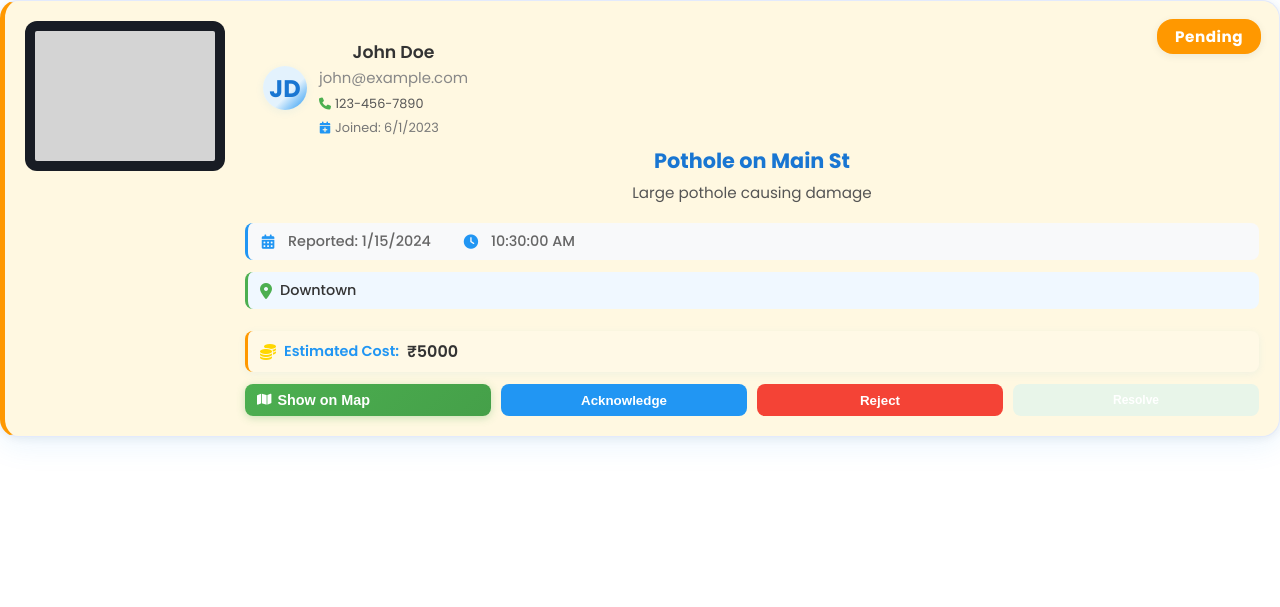
Test case: IssueCard › opens message box when action button clicked
Step 1. Click the button "Acknowledge" → point(624, 400), box left=501, top=384, right=747, bottom=416
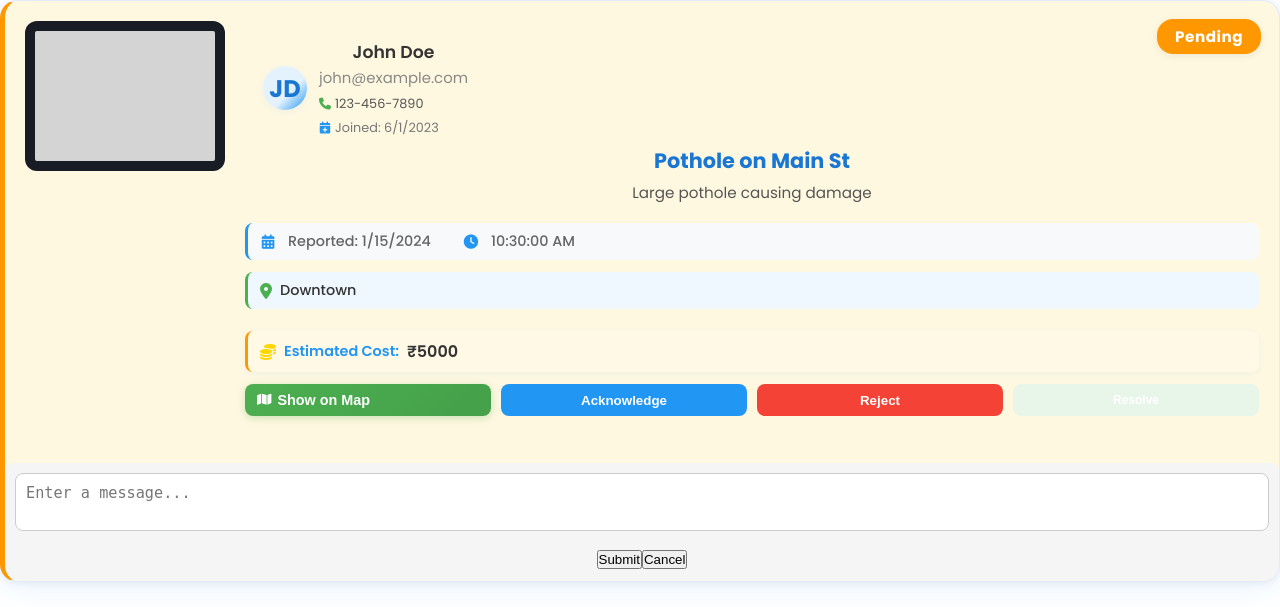
Check: the text box with placeholder "Enter a message..." is shown, box left=15, top=473, right=1269, bottom=531
